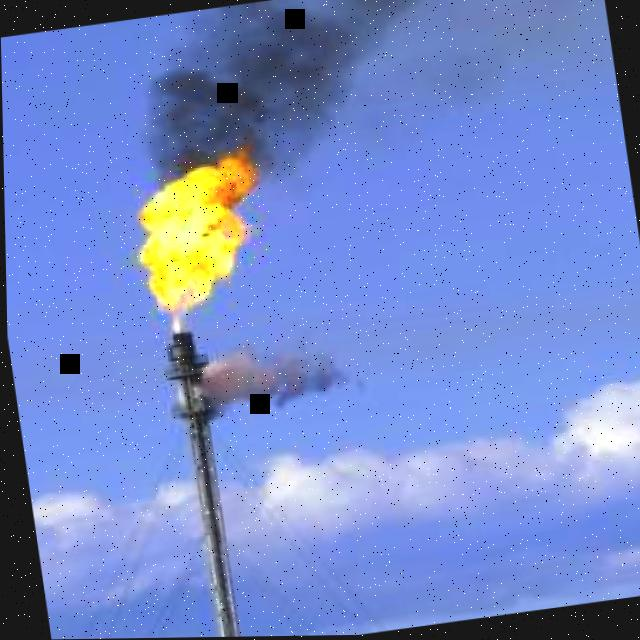fire: (136, 139, 262, 328)
smoke: (141, 0, 619, 189), (190, 329, 363, 425), (174, 385, 181, 402)
